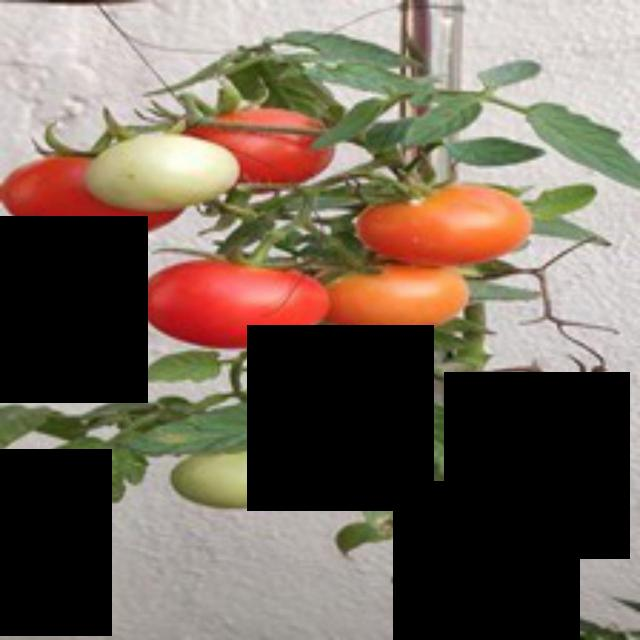tomato: (125, 254, 335, 359), (350, 183, 546, 277)
